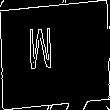M_S: (42, 28, 68, 82)
